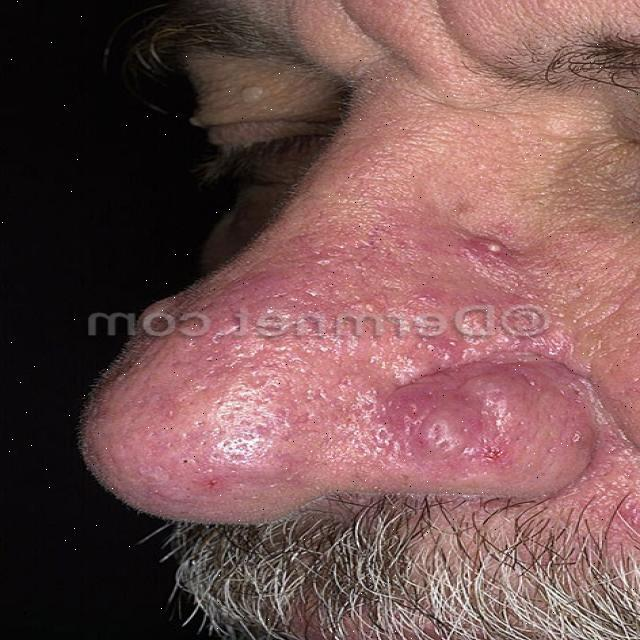images: (75, 0, 639, 639)
